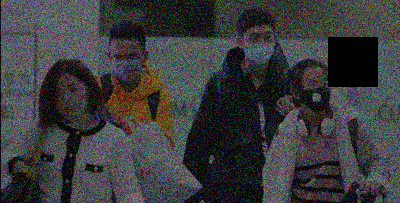with_mask: (244, 28, 276, 67), (300, 75, 332, 112), (110, 49, 144, 83)
without_mask: (53, 79, 91, 123)
